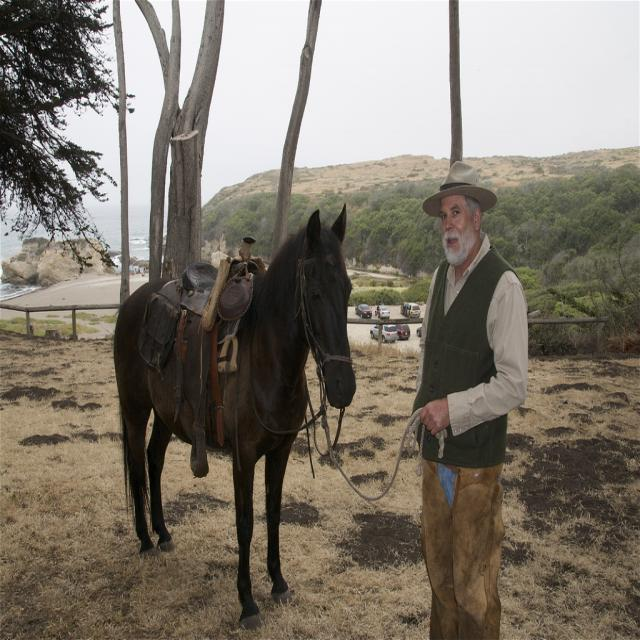Horse: (113, 203, 356, 632)
